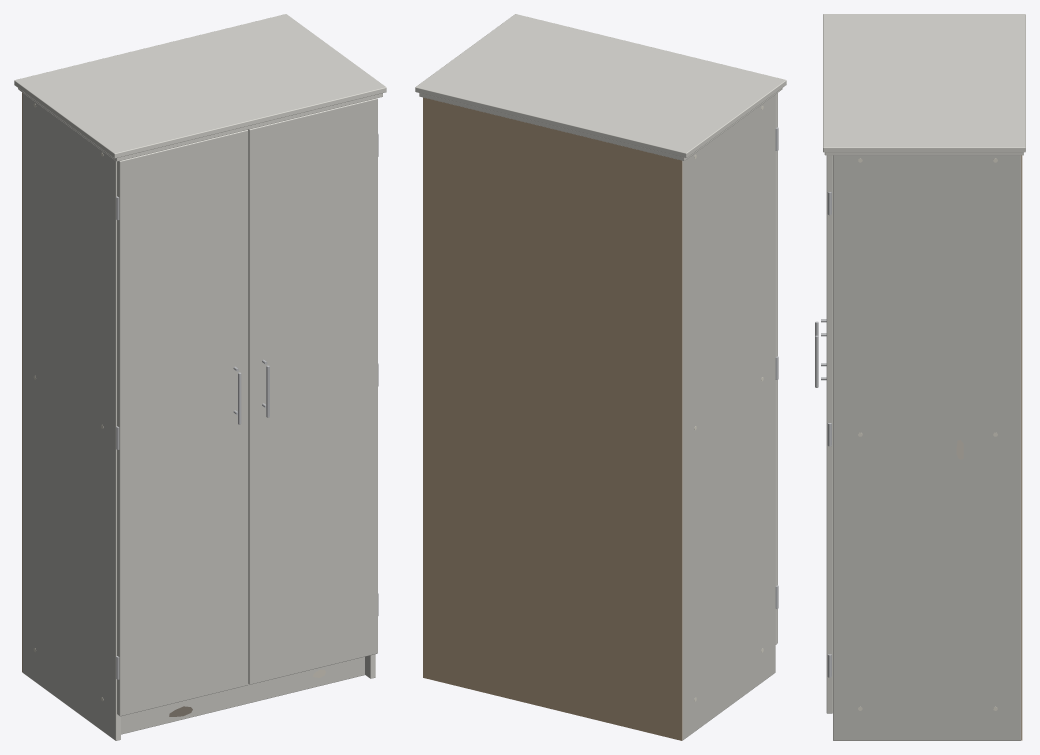
File: furniture_wardrobe.fbx
The picture shows the model from 3 angles, left to right: view 1: azimuth 30°, elevation 25°; view 2: azimuth 150°, elevation 25°; view 3: azimuth 270°, elevation 25°; orthographic projection.
Parts seen in each view (by area): view 1: body, door_L, door_R; view 2: body, door_L; view 3: body, door_R.
Part boxes in pixels (left/top/right/bottom): body: left=14, top=14, right=386, bottom=740; door_L: left=116, top=130, right=248, bottom=716; door_R: left=248, top=98, right=378, bottom=684; body: left=415, top=14, right=786, bottom=740; door_L: left=775, top=93, right=778, bottom=644; body: left=823, top=14, right=1025, bottom=740; door_R: left=815, top=155, right=832, bottom=713.
Bounding box in the file's own units: 0.89 × 1.85 × 0.592.
